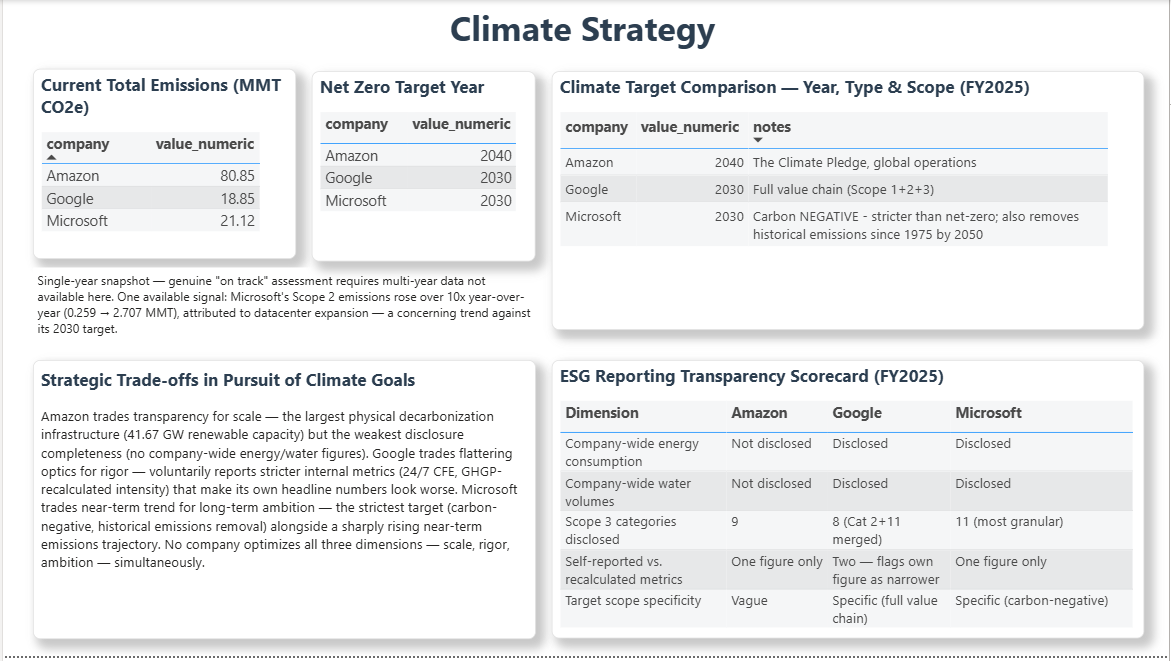

The page's visual inventory and layout, read from the dashboard file:
{"tool":"powerbi","page":{"name":"Climate Strategy","canvas":[1280,720],"ordinal":4},"visuals":[{"type":"textbox","box":[485.7,0,308.6,60],"z":0},{"type":"tableEx","title":"Current Total Emissions (MMT CO2e)","fields":{"Values":["esg_data_export.company","esg_data_export.value_numeric"]},"box":[32.9,75.1,288.6,208.6],"z":1000},{"type":"textbox","box":[32.9,293.7,551.4,91.4],"z":2000},{"type":"tableEx","title":"Net Zero Target Year","fields":{"Values":["esg_data_export.company","esg_data_export.value_numeric"]},"box":[338.6,78,245.7,208.6],"z":3000},{"type":"tableEx","title":"Climate Target Comparison — Year, Type & Scope (FY2025)","fields":{"Values":["esg_data_export.company","esg_data_export.value_numeric","esg_data_export.notes"]},"box":[602.9,78,650,284.3],"z":4000},{"type":"textbox","box":[32.9,395.2,551.6,306],"z":5000},{"type":"tableEx","title":"ESG Reporting Transparency Scorecard (FY2025)","fields":{"Values":["Q16_Scorecard.Dimension","Q16_Scorecard.Amazon","Q16_Scorecard.Google","Q16_Scorecard.Microsoft"]},"box":[602.9,395.7,650,305.7],"z":6000}]}

Visuals, with their boxes in screenshot pixels (x1, y1, x2, y2), scaled from the page's 1280x720 canvas onto the 1171x661 screenshot:
textbox: <box>444,0,727,55</box>
"Current Total Emissions (MMT CO2e)" tableEx: <box>30,69,294,260</box>
textbox: <box>30,270,535,354</box>
"Net Zero Target Year" tableEx: <box>310,72,535,263</box>
"Climate Target Comparison — Year, Type & Scope (FY2025)" tableEx: <box>552,72,1146,333</box>
textbox: <box>30,363,535,644</box>
"ESG Reporting Transparency Scorecard (FY2025)" tableEx: <box>552,363,1146,644</box>
